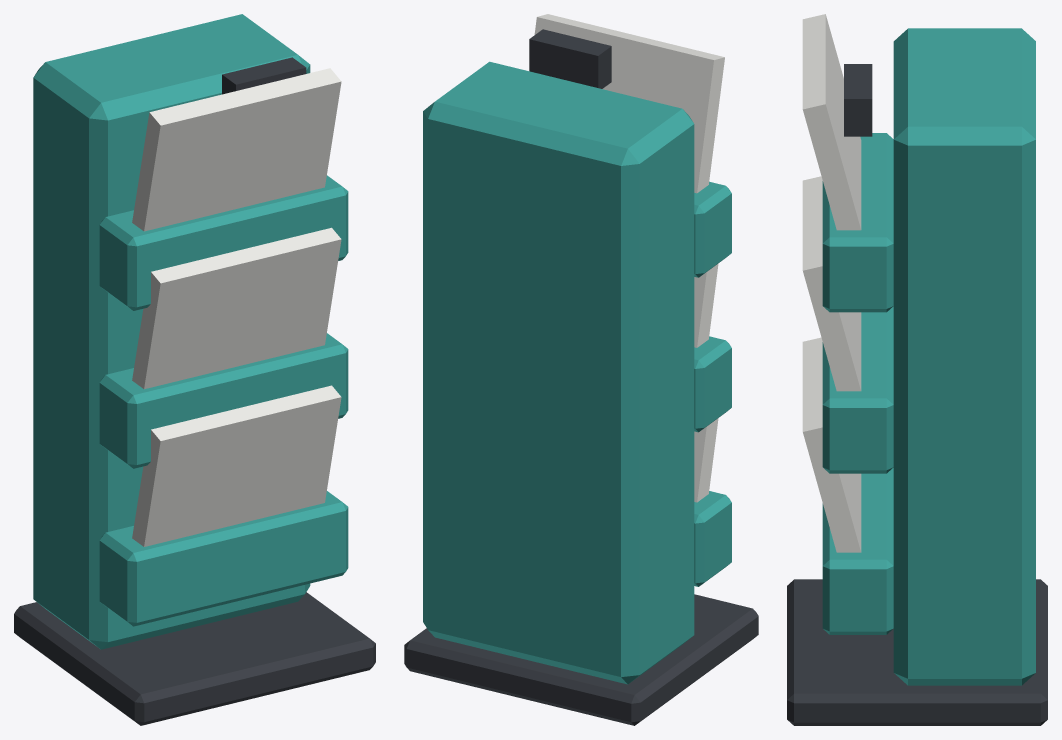
The model's file is selfservice_m0_1.glb.
3 views of the same model, side by side, from view 1: azimuth 30°, elevation 25°; view 2: azimuth 150°, elevation 25°; view 3: azimuth 270°, elevation 25° (orthographic). The views are drawn at different scales.
Parts seen in each view (by area): view 1: selfservice_m0_1_mesh; view 2: selfservice_m0_1_mesh; view 3: selfservice_m0_1_mesh.
Boxes of the visible parts, bbox=[...] form: selfservice_m0_1_mesh: bbox=[14, 14, 375, 725]; selfservice_m0_1_mesh: bbox=[404, 14, 758, 725]; selfservice_m0_1_mesh: bbox=[787, 14, 1047, 725].
Size of the model in its own units: 0.24 by 0.5672 by 0.22.
